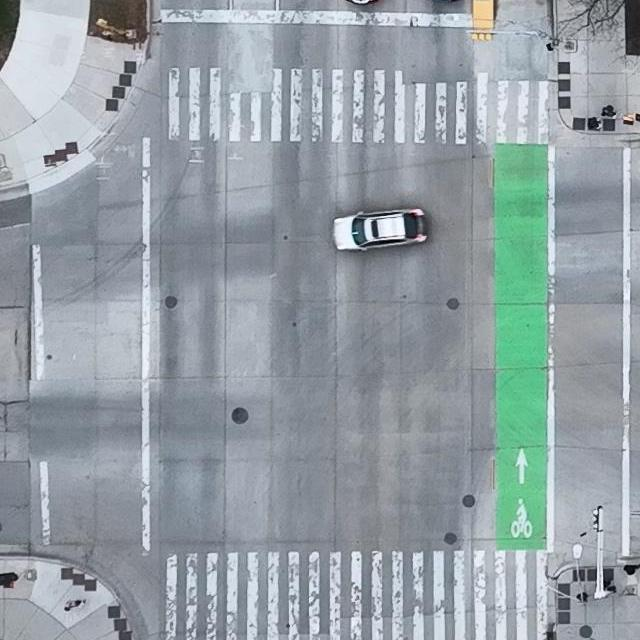car: (334, 206, 427, 252)
